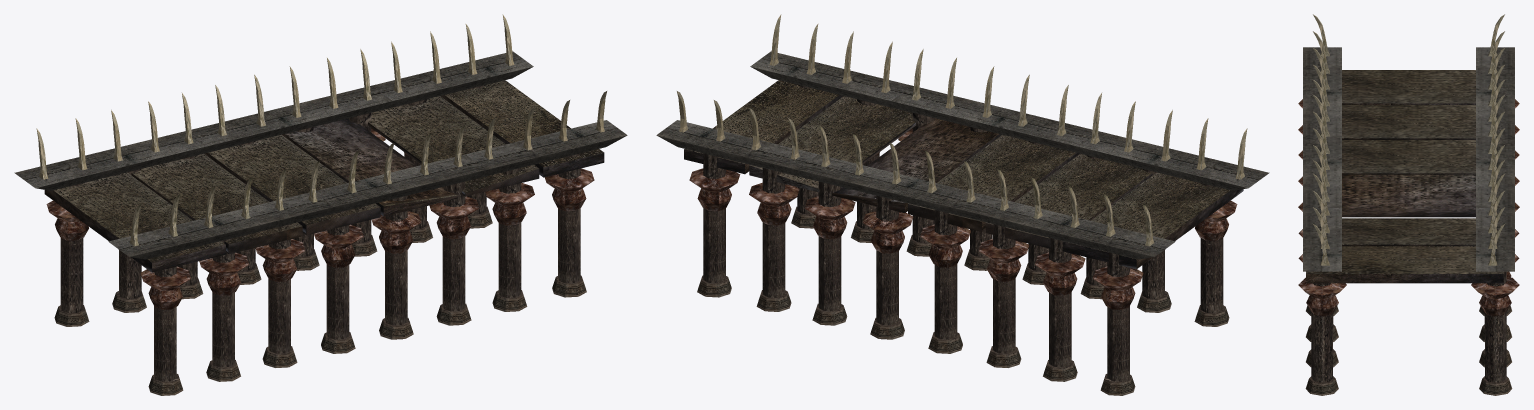
File: Templebuilding1_B_version.fbx
3 views of the same model, side by side, from view 1: azimuth 30°, elevation 25°; view 2: azimuth 150°, elevation 25°; view 3: azimuth 270°, elevation 25° (orthographic). The views are drawn at different scales.
Parts seen in each view (by area): view 1: Mesh1; view 2: Mesh1; view 3: Mesh1.
Boxes of the visible parts, x1,y1,x2,y2 form: Mesh1: (14,14,627,395); Mesh1: (656,14,1269,395); Mesh1: (1298,14,1519,395).
Bounding box in the file's own units: 130 × 48.72 × 54.22.
